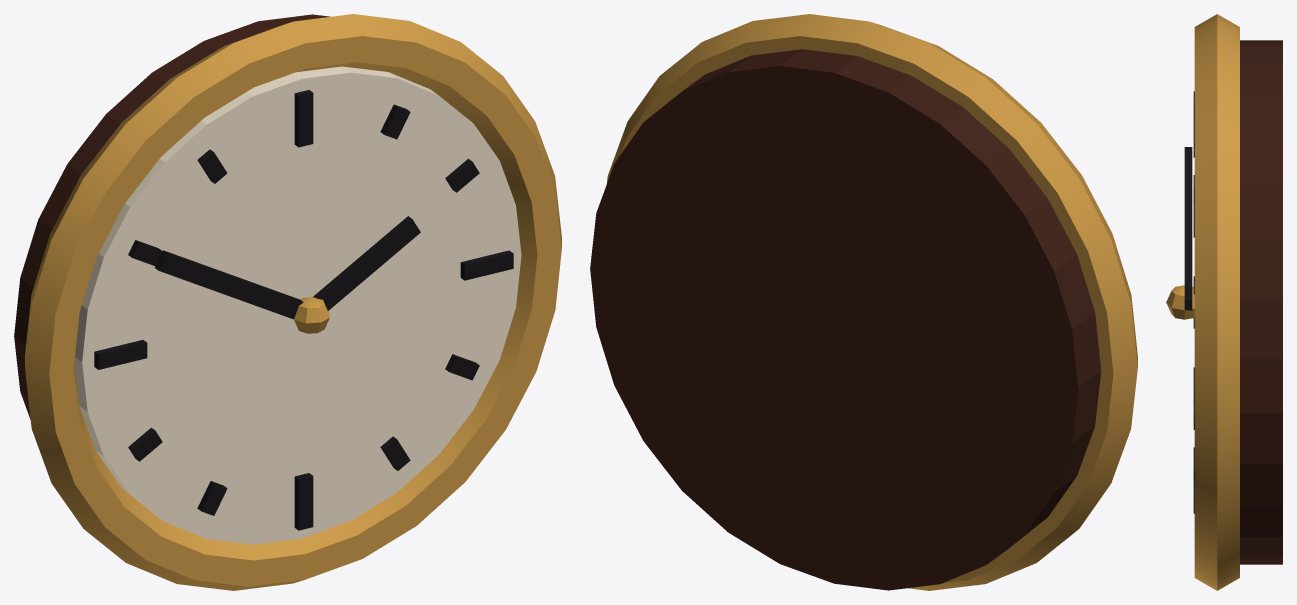
File: clock.glb
3 renders of one model, left to right at view 1: azimuth 30°, elevation 25°; view 2: azimuth 150°, elevation 25°; view 3: azimuth 270°, elevation 25°, orthographic. The views are drawn at different scales.
Parts seen in each view (by area): view 1: clock; view 2: clock; view 3: clock.
Boxes of the visible parts, bbox=[...] form: clock: bbox=[14, 14, 561, 590]; clock: bbox=[590, 14, 1137, 590]; clock: bbox=[1166, 14, 1282, 590].
Size of the model in its own units: 0.44 by 0.44 by 0.089.
